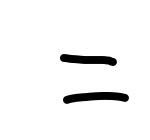eqv: (53, 49, 133, 108)
